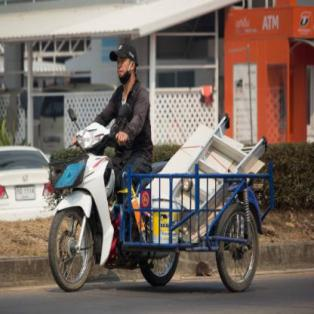Motocicleta: (49, 110, 121, 286)
